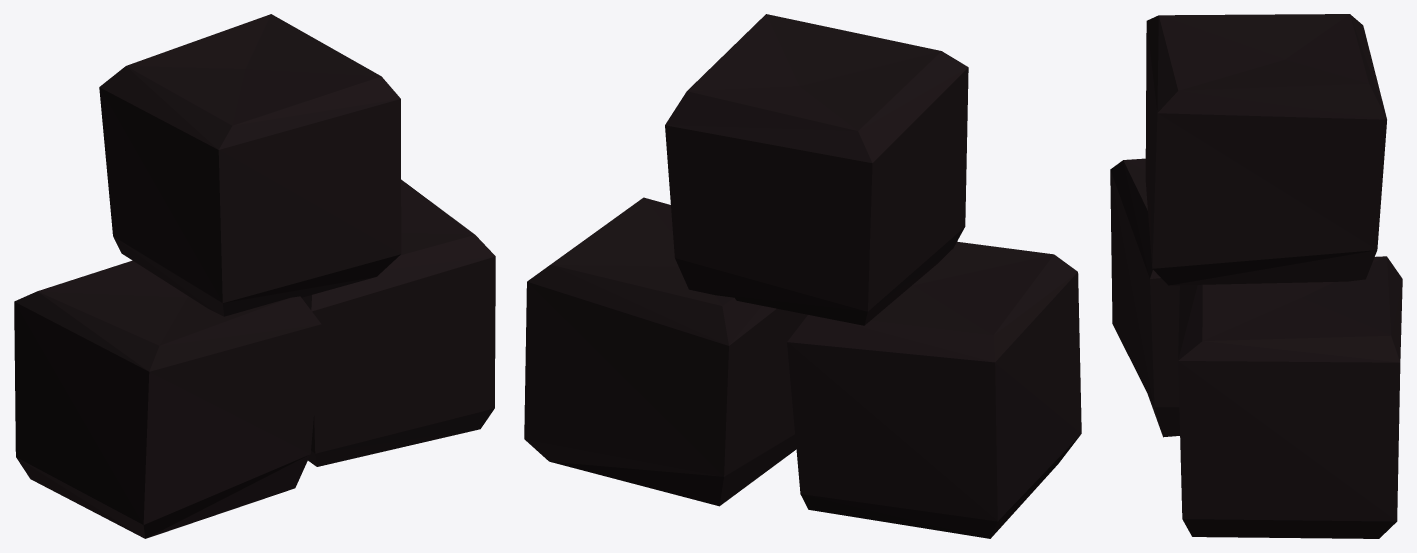
File: SM_MolassesCubes.fbx
The picture shows the model from 3 angles, left to right: view 1: azimuth 30°, elevation 25°; view 2: azimuth 150°, elevation 25°; view 3: azimuth 270°, elevation 25°; orthographic projection. The views are drawn at different scales.
Visible parts, largest first — view 1: Molasses_Cubes; view 2: Molasses_Cubes; view 3: Molasses_Cubes.
Part boxes in pixels (x1,y1,x2,y2): Molasses_Cubes: (14, 14, 495, 538); Molasses_Cubes: (524, 14, 1081, 538); Molasses_Cubes: (1110, 14, 1402, 538).
Bounding box in the file's own units: 0.1293 × 0.1133 × 0.0763.
